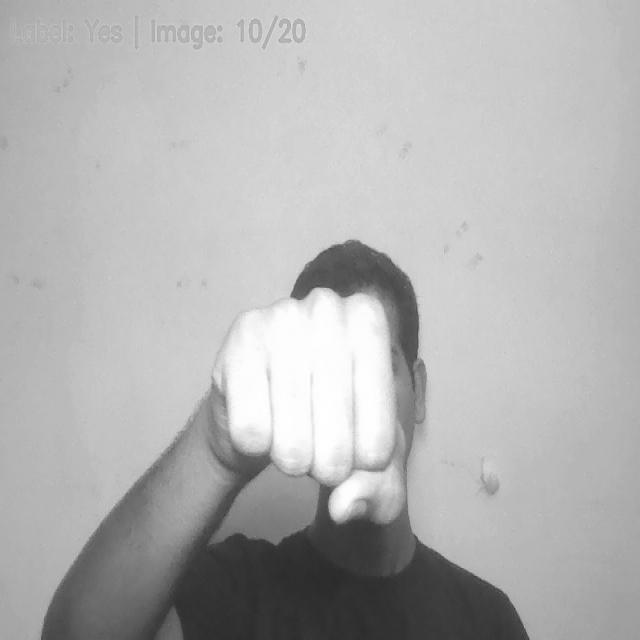Yes: (210, 285, 408, 533)
